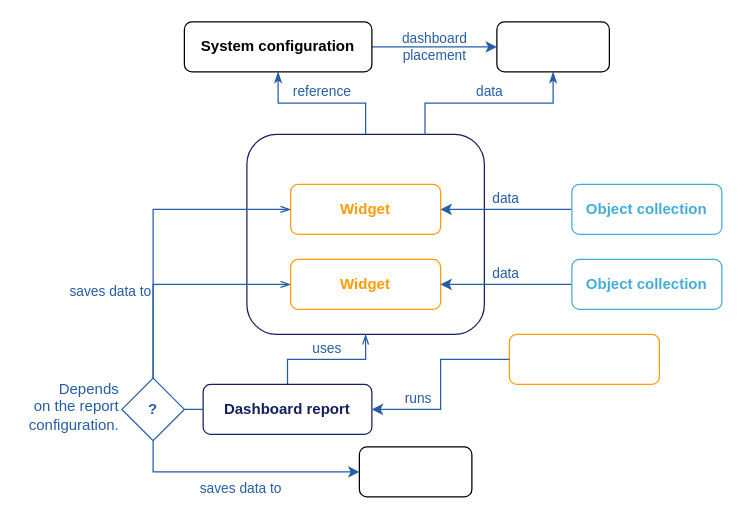
The diagram is 744 pixels wide and 519 high, and some of its shapes have lost their labels. Each missing label, with the box of its shape:
Dashboard: (246, 133, 484, 334)
Dashboard task: (508, 333, 659, 384)
File: (358, 446, 472, 497)
GUI: (496, 21, 609, 72)
